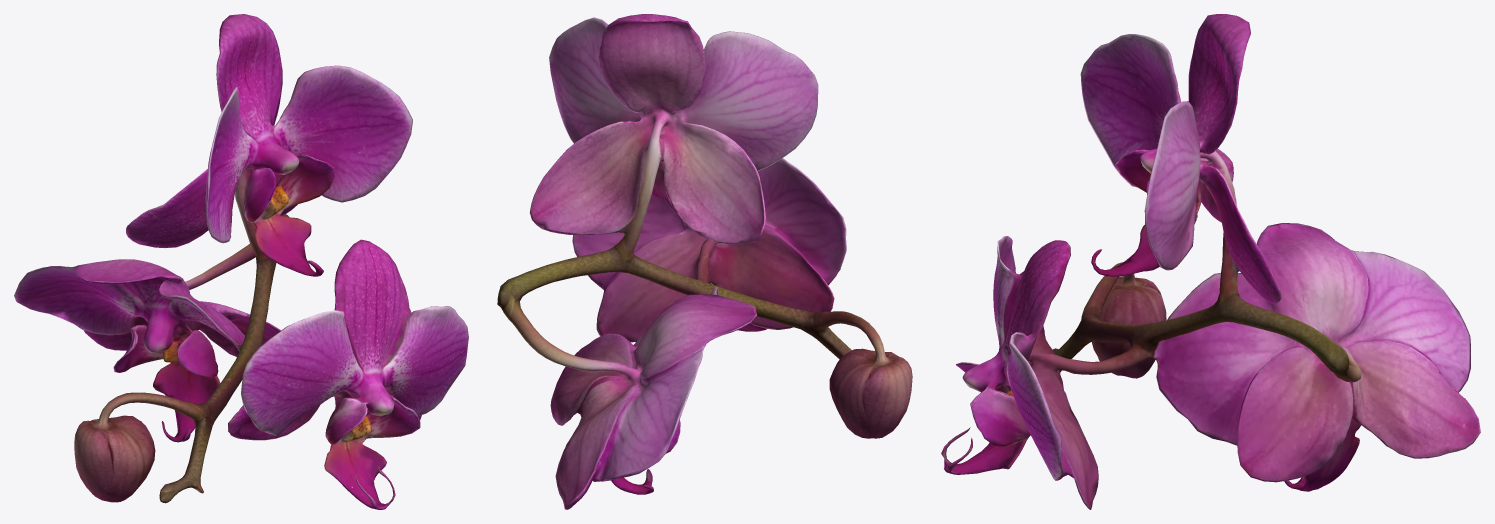
Rendered from ccby-moth-orchid.glb.
The picture shows the model from 3 angles, left to right: view 1: azimuth 30°, elevation 25°; view 2: azimuth 150°, elevation 25°; view 3: azimuth 270°, elevation 25°; orthographic projection. The views are drawn at different scales.
Parts seen in each view (by area): view 1: Object_2; view 2: Object_2; view 3: Object_2.
Part boxes in pixels (left/top/right/bottom): Object_2: left=14, top=14, right=468, bottom=509; Object_2: left=497, top=14, right=912, bottom=509; Object_2: left=941, top=14, right=1480, bottom=509.
Size of the model in its own units: 0.312 by 0.3656 by 0.3698.
Materials: 1 (1 with a texture image).
